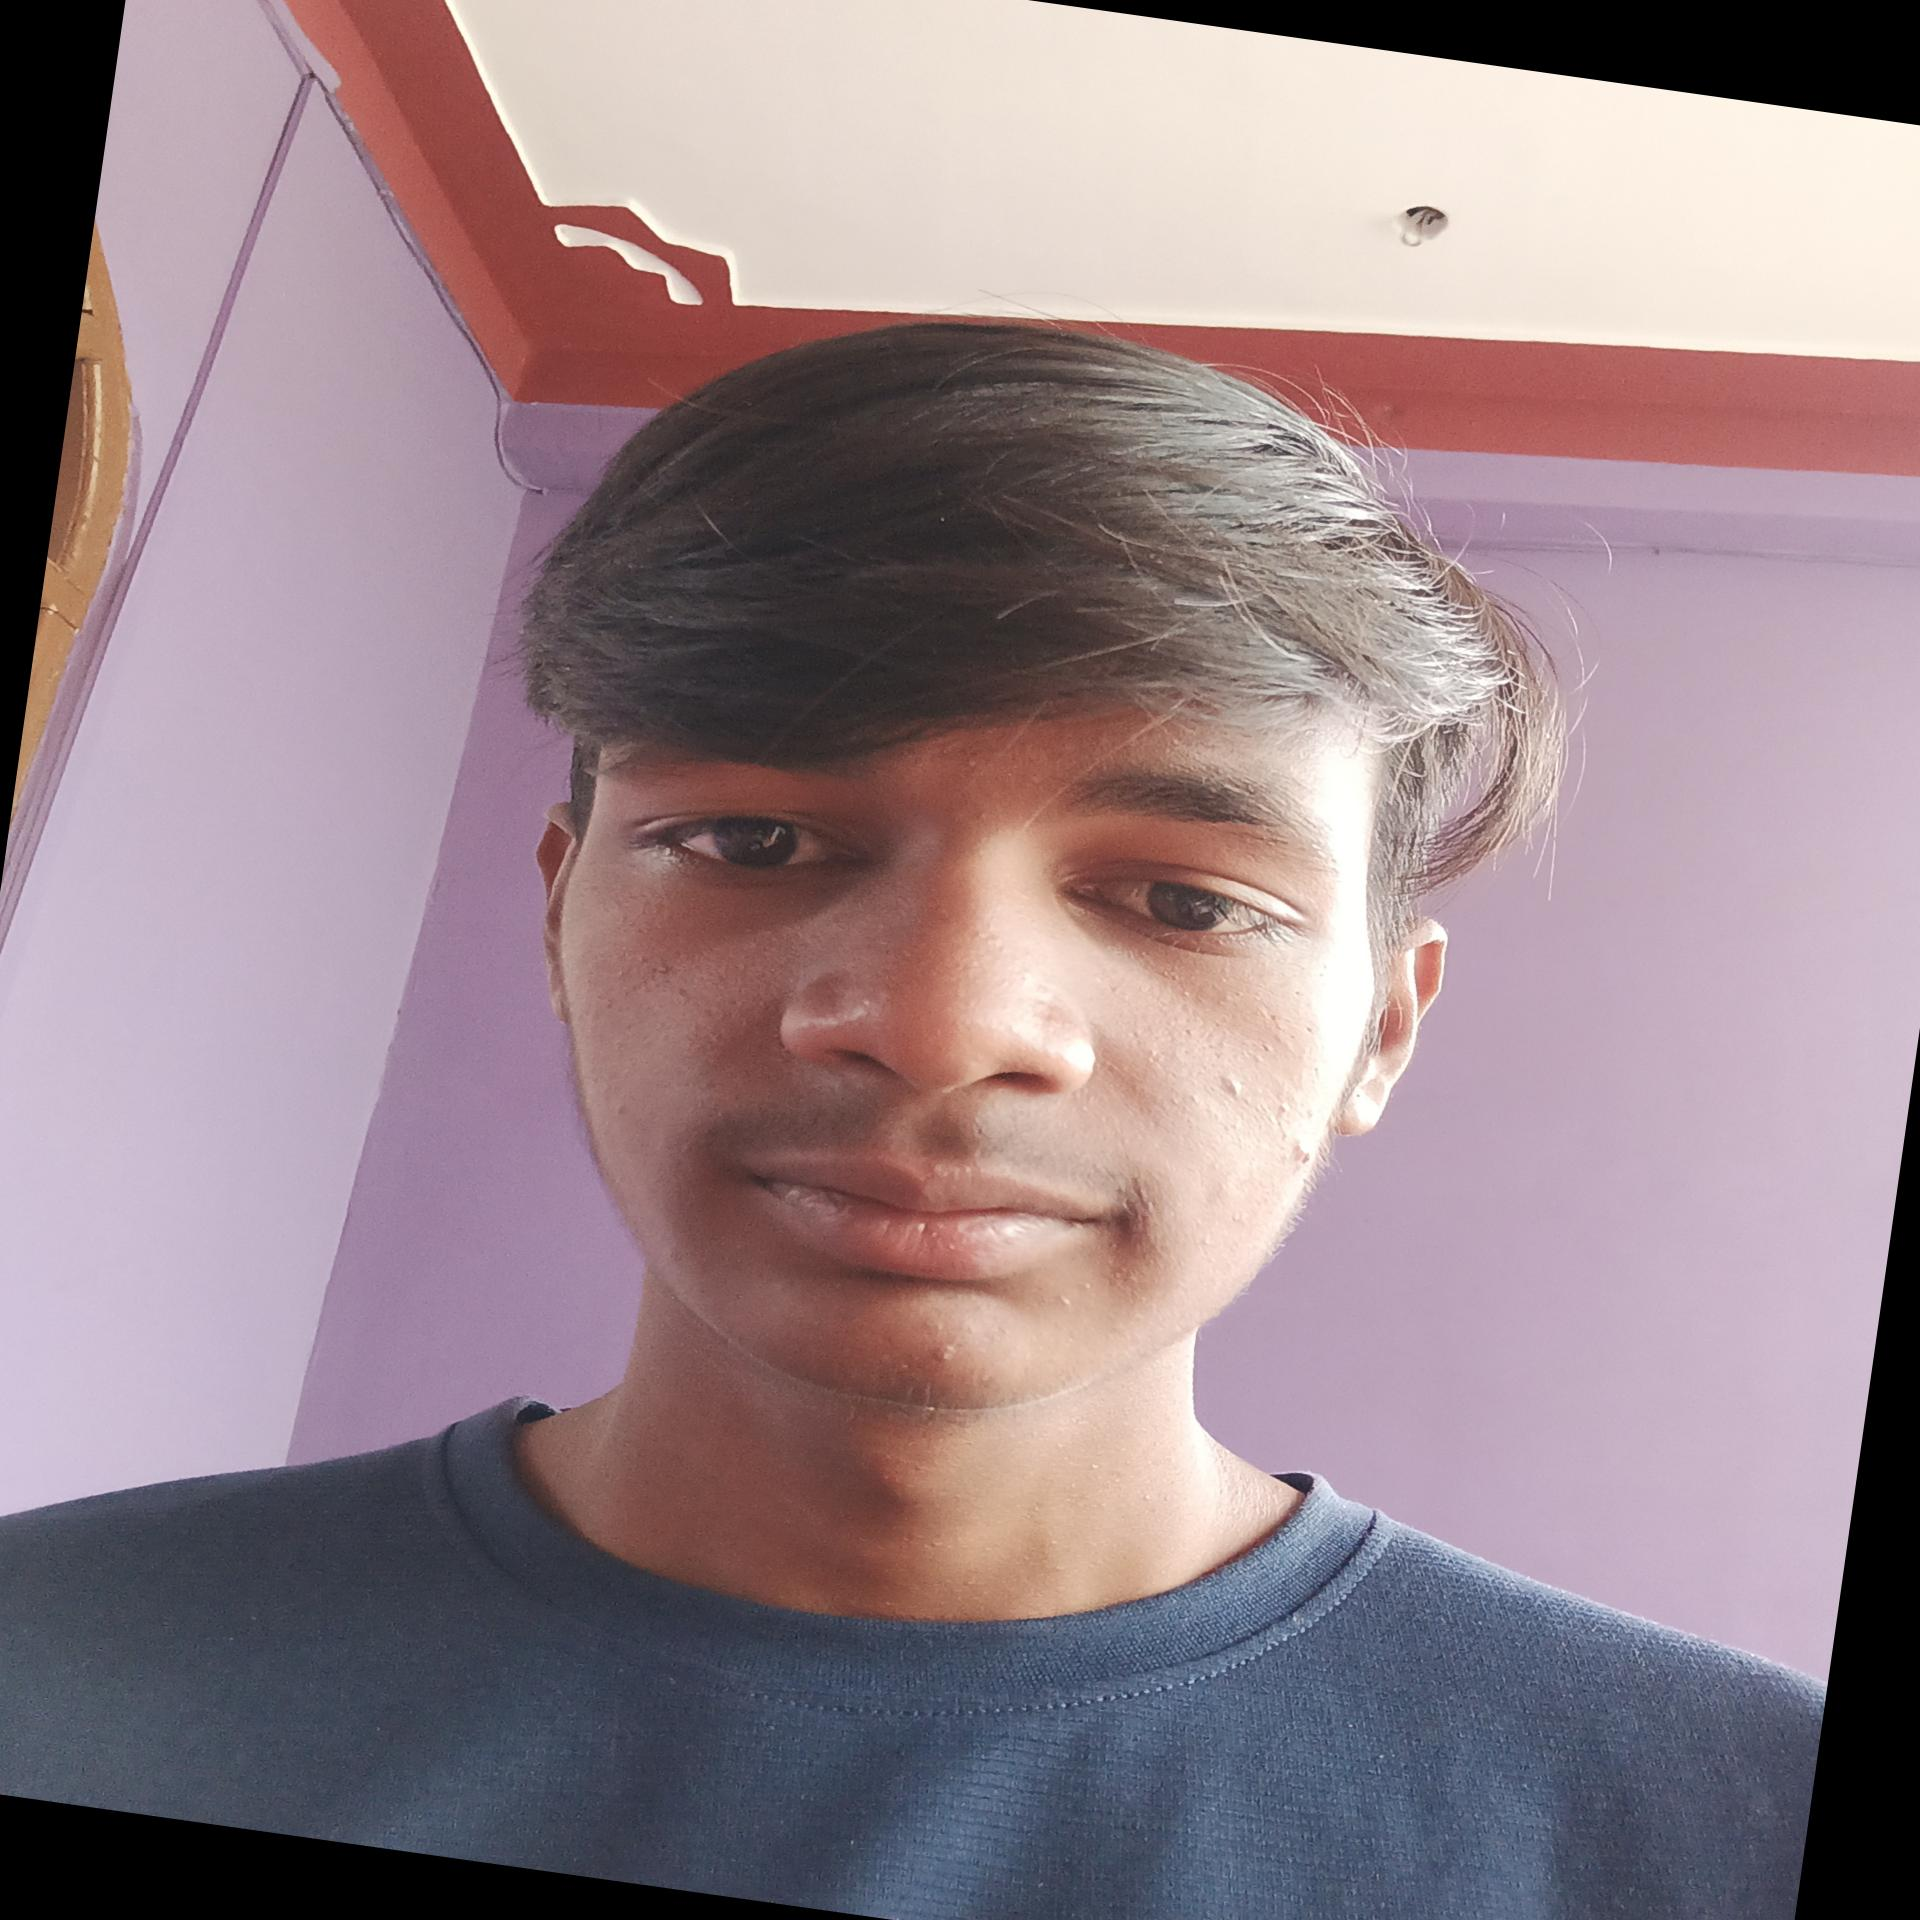Acne: (1211, 1020, 1299, 1074), (617, 949, 689, 999), (972, 914, 1027, 958), (949, 745, 1006, 788), (1043, 1273, 1094, 1315), (1203, 1065, 1257, 1104), (1275, 1132, 1320, 1167), (920, 1343, 962, 1373)
